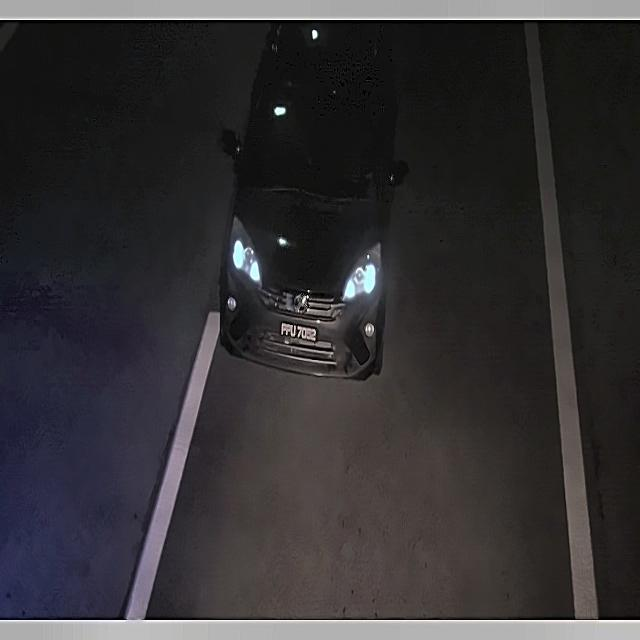car: (274, 314, 324, 349)
